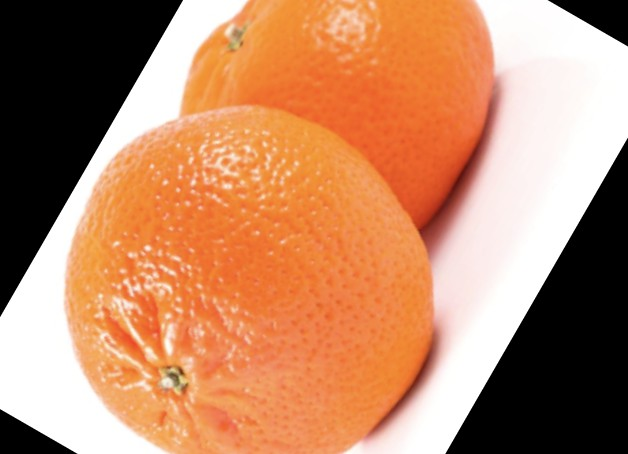fresh_orange: (64, 107, 437, 454), (184, 1, 495, 257)
